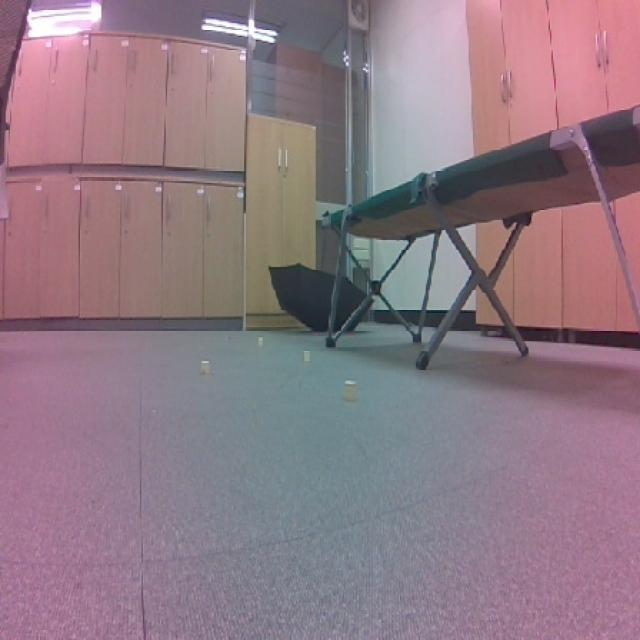obstacle: (335, 372, 365, 407)
